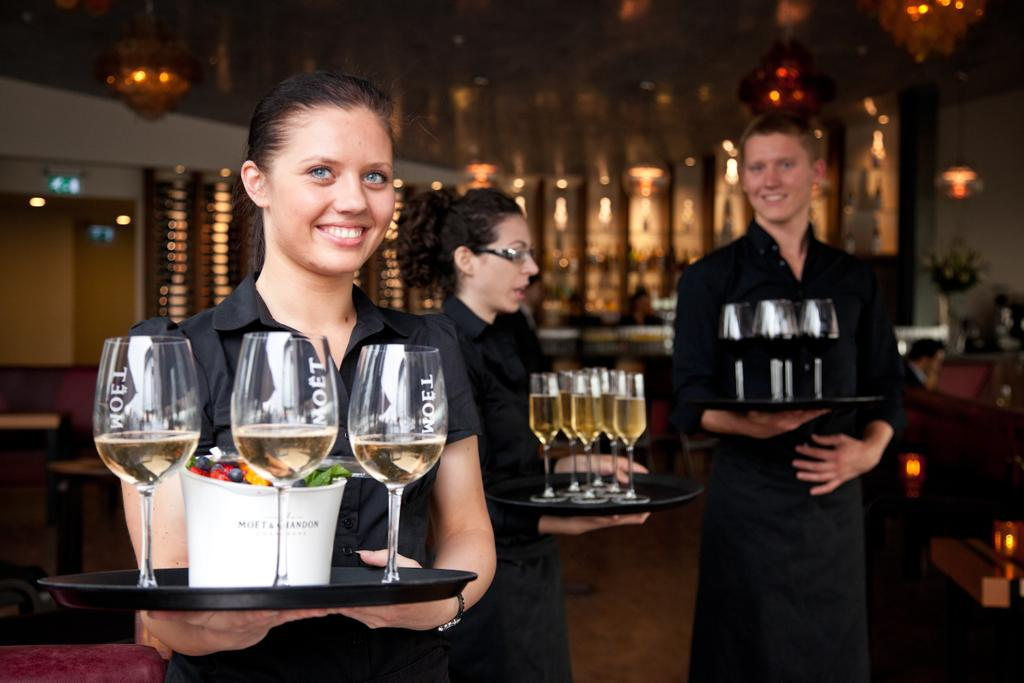face: (268, 104, 394, 270), (476, 208, 536, 314), (744, 132, 808, 222)
